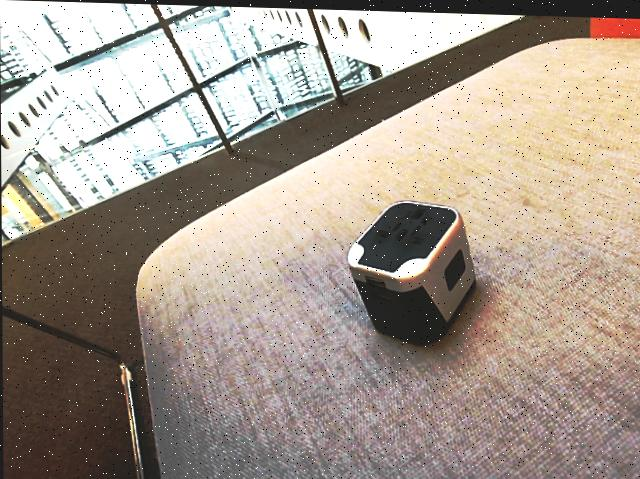adapter: (347, 195, 476, 344)
